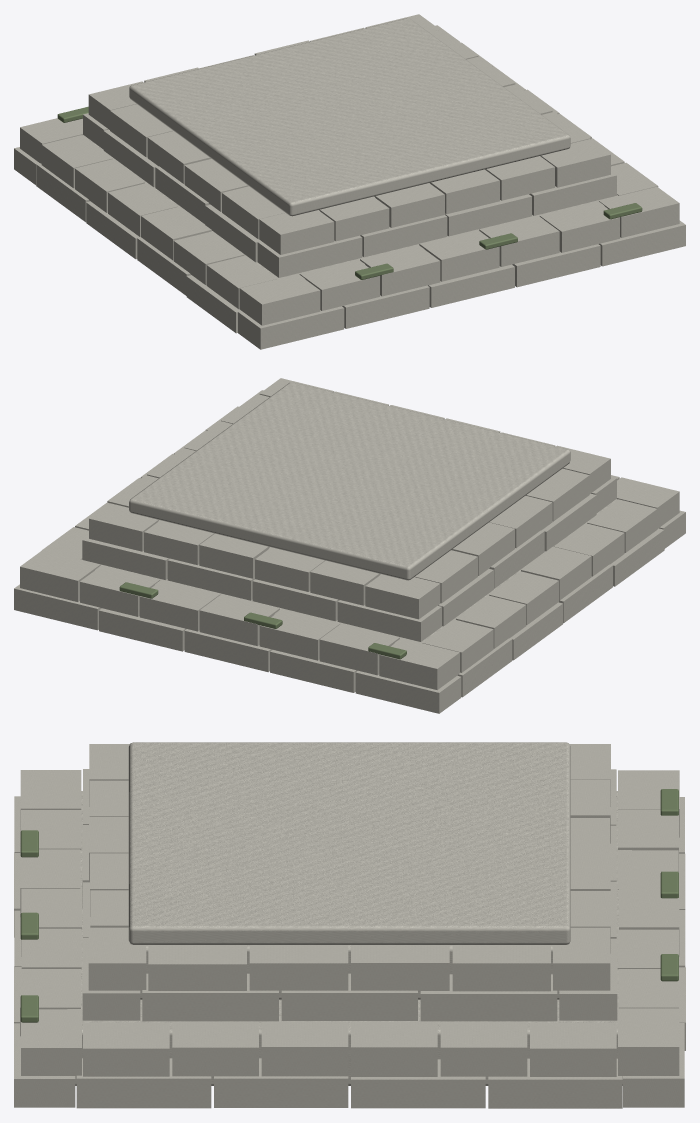
File: jungle-temple-and-stone-city-stone-step-platform-69e08735__36124.glb
3 renders of one model, top to bottom at view 1: azimuth 30°, elevation 25°; view 2: azimuth 150°, elevation 25°; view 3: azimuth 270°, elevation 25°, orthographic. The views are drawn at different scales.
Visible parts, largest first — view 1: stone-step-platform; view 2: stone-step-platform; view 3: stone-step-platform.
Part boxes in pixels (x1=…): stone-step-platform: x1=14, y1=14, x2=685, y2=349; stone-step-platform: x1=14, y1=378, x2=685, y2=713; stone-step-platform: x1=14, y1=742, x2=685, y2=1108.
Size of the model in its own units: 4.41 by 0.9597 by 4.41.
2 materials, 2 textured.
